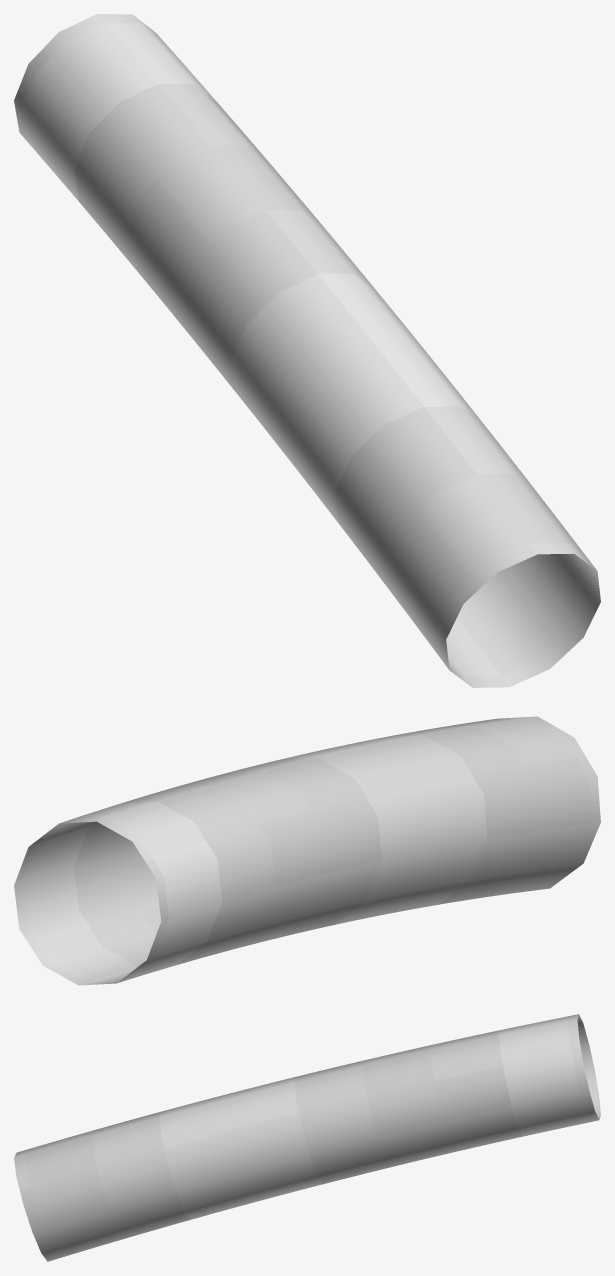
Rendered from luminairearm_caltrans12ft_c3.obj.
3 views of the same model, one above another, from view 1: azimuth 30°, elevation 25°; view 2: azimuth 150°, elevation 25°; view 3: azimuth 270°, elevation 25° (orthographic). The views are drawn at different scales.
Parts seen in each view (by area): view 1: luminairearm_caltrans12ft_c3; view 2: luminairearm_caltrans12ft_c3; view 3: luminairearm_caltrans12ft_c3.
Boxes of the visible parts, x1=… form: luminairearm_caltrans12ft_c3: x1=14, y1=14, x2=600, y2=687; luminairearm_caltrans12ft_c3: x1=14, y1=716, x2=600, y2=985; luminairearm_caltrans12ft_c3: x1=14, y1=1014, x2=600, y2=1261.
Size of the model in its own units: 0.205 by 0.4698 by 1.05.
